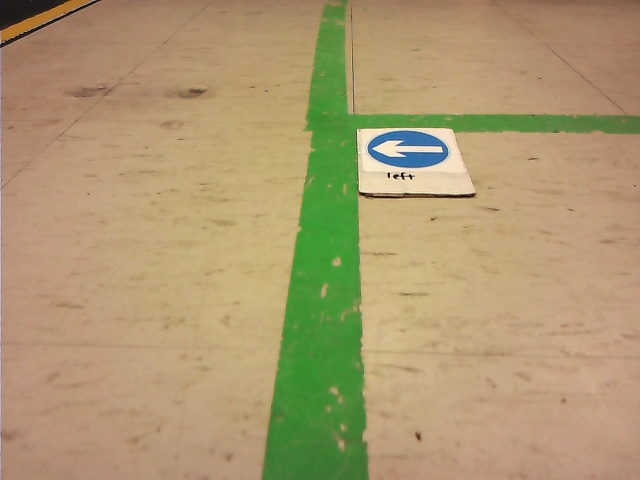TURN LEFT: (368, 131, 449, 167)
